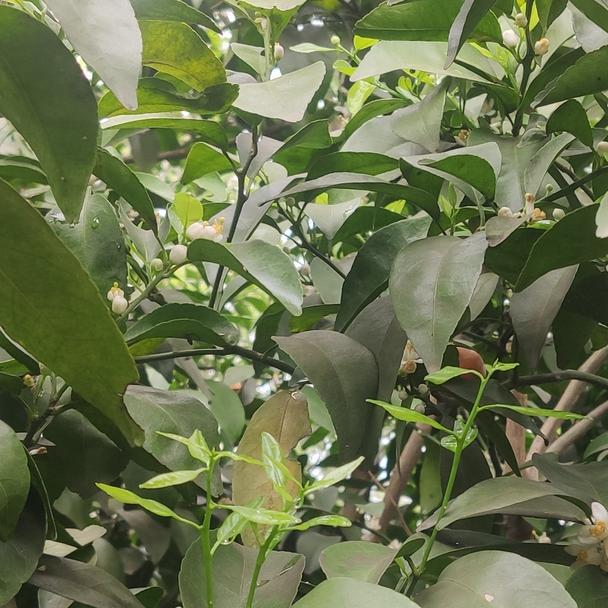shoot: (381, 351, 587, 509), (115, 425, 284, 599), (249, 438, 365, 575)
